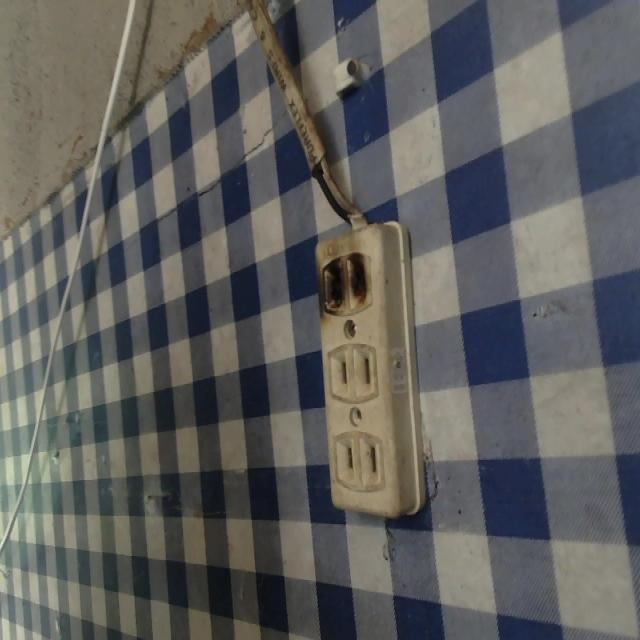-: (305, 241, 381, 316)
